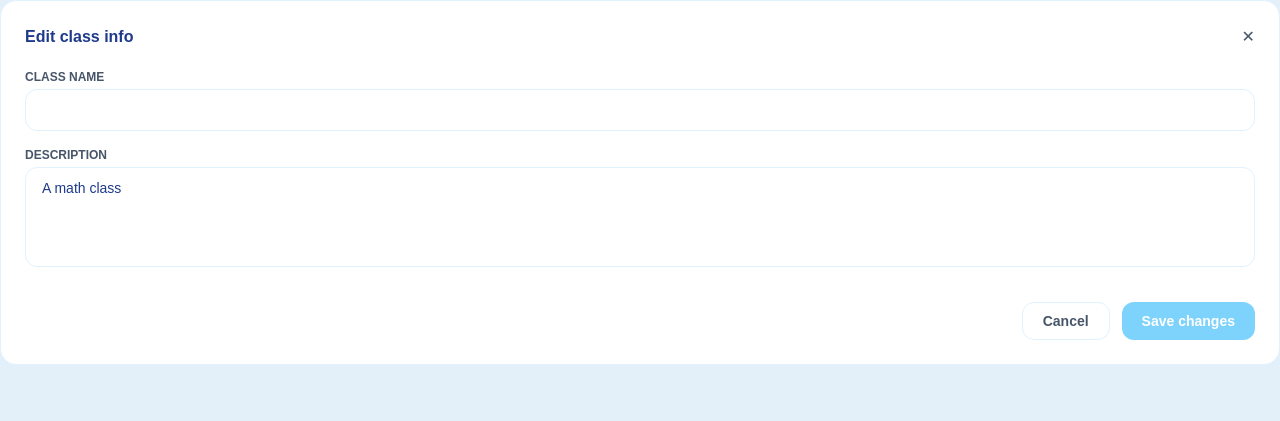
Test: EditInfoPanel › shows error when name is empty
Click the button "Save changes" at point(1188, 321), box left=1122, top=302, right=1255, bottom=340
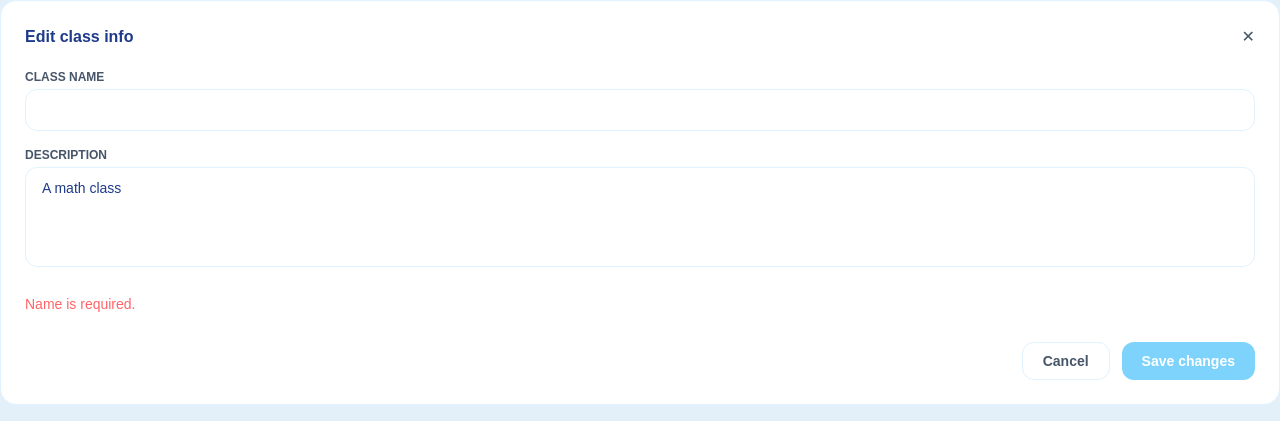
Check: the text "Name is required." is shown, box left=25, top=296, right=136, bottom=312
